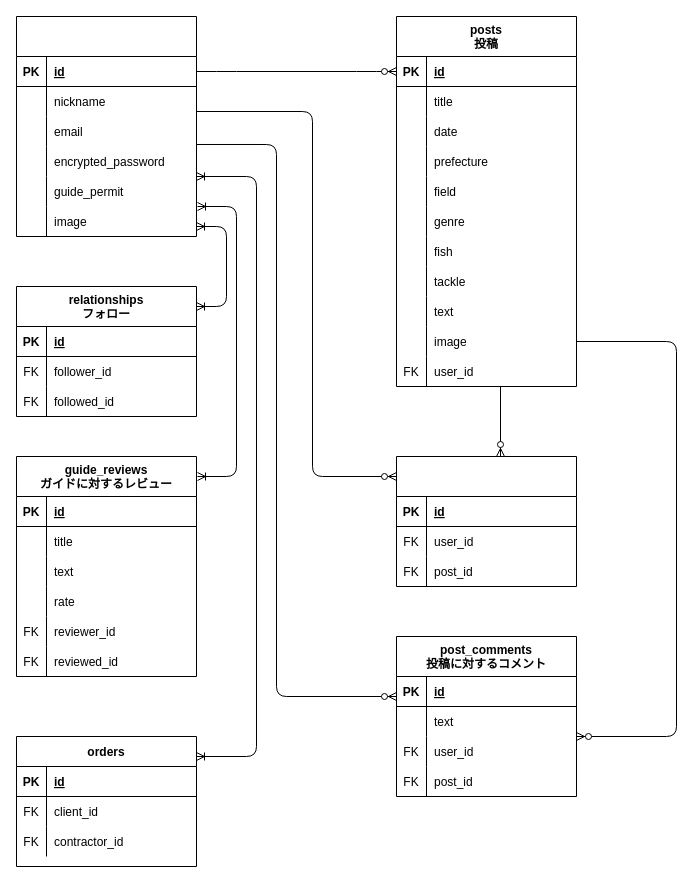
Some shapes in this 693 by 883 pixel diagram are drawn without their labels. Each missing label, with the box of its shape:
post＿likes 投稿に対するいいね: (396, 456, 576, 586)
users ユーザー: (16, 16, 196, 236)
